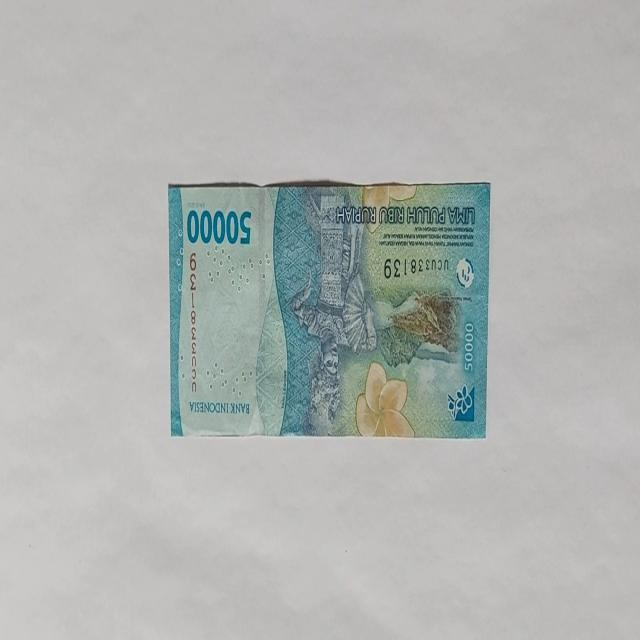lima puluh ribu rupiah: (168, 180, 491, 440), (185, 205, 253, 248)
